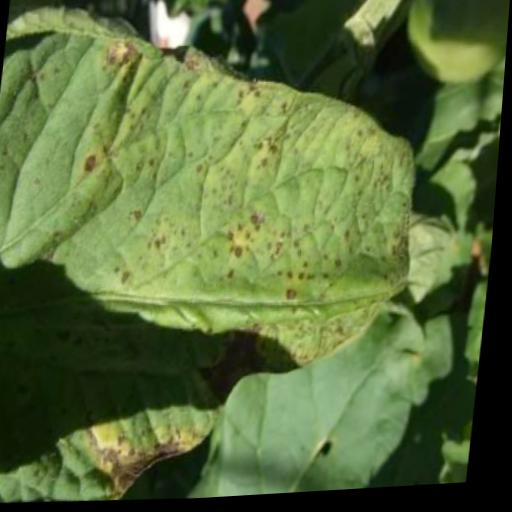Early Blight: (0, 0, 440, 512)
